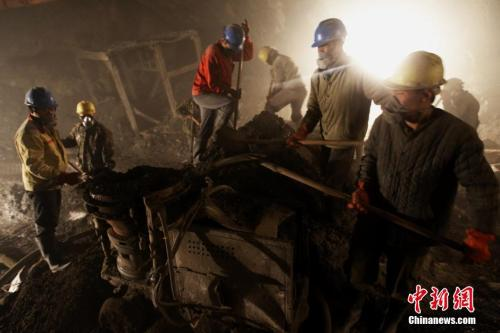helmet: (378, 46, 452, 121), (308, 12, 357, 71), (23, 82, 62, 127), (221, 23, 247, 57), (72, 97, 98, 126), (256, 42, 283, 67)
